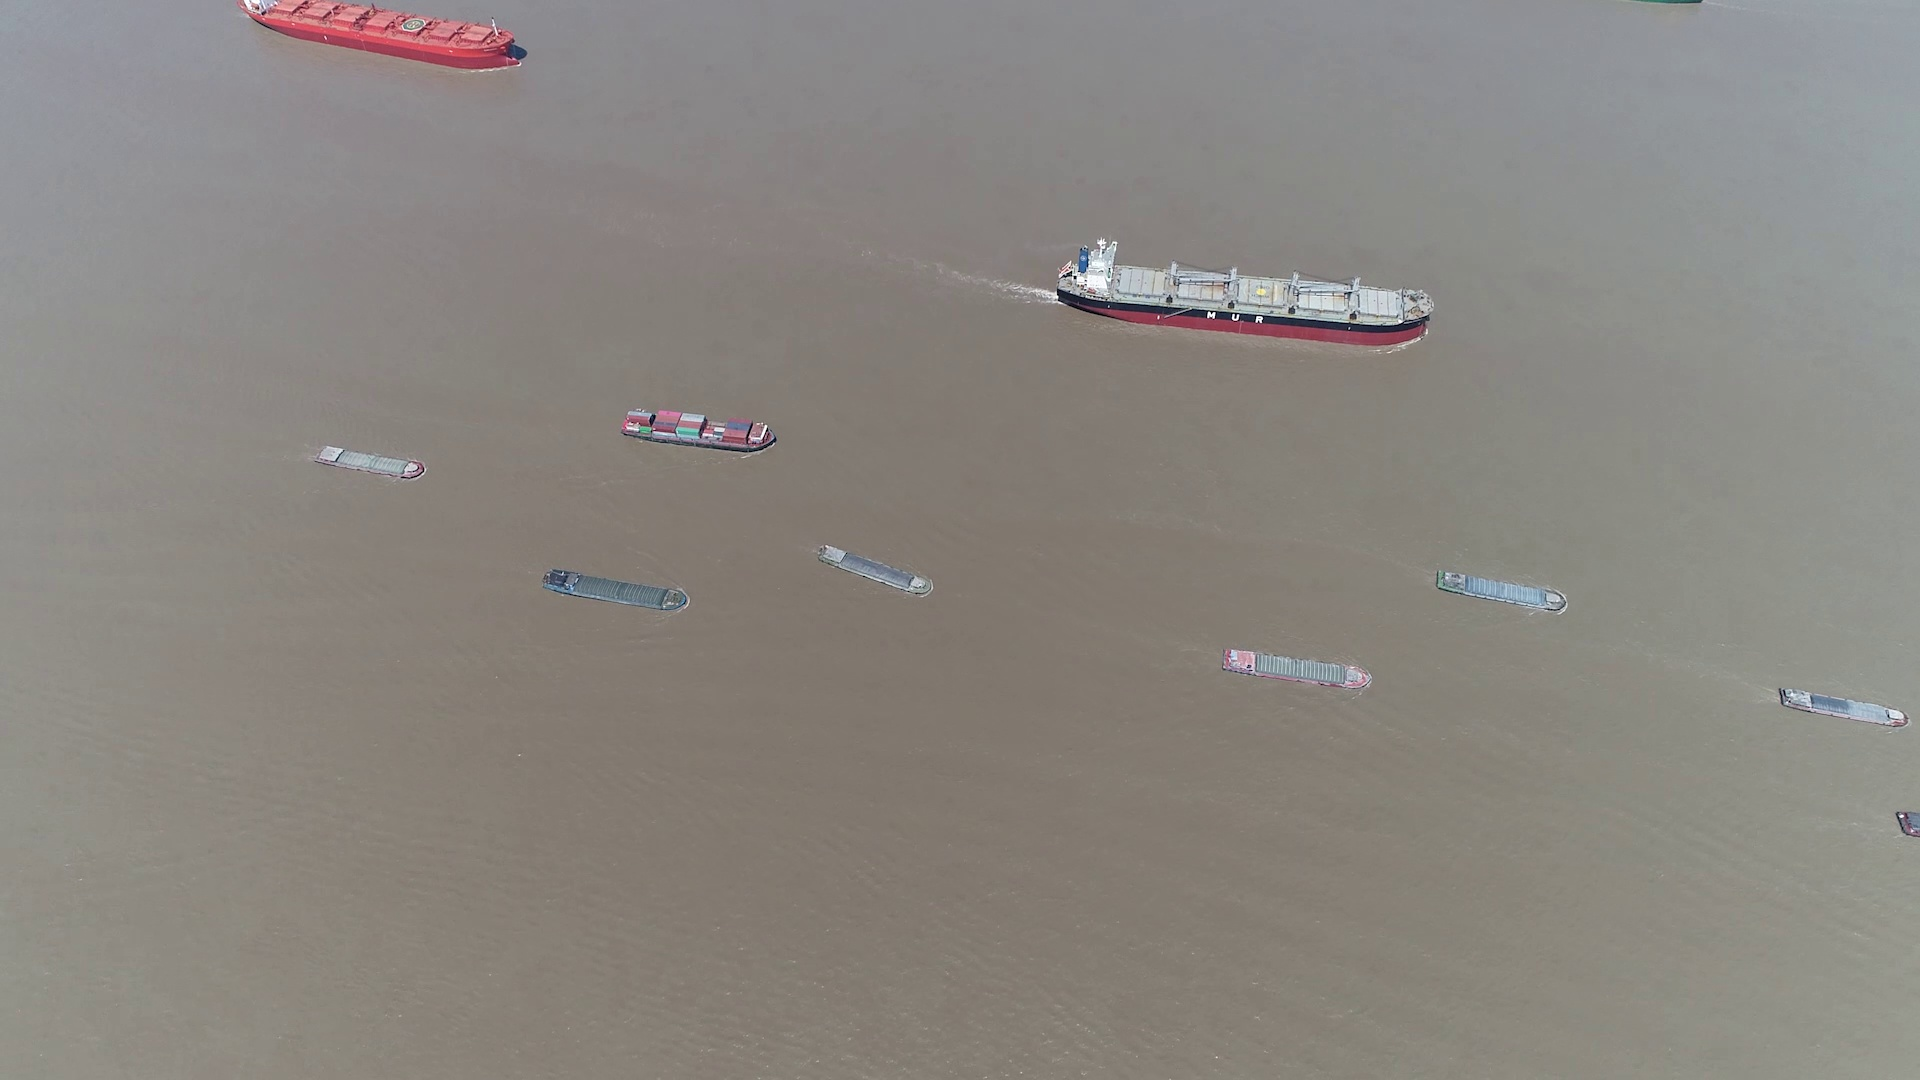ship: (1059, 243, 1437, 344), (243, 0, 524, 69), (621, 407, 781, 452), (1220, 647, 1371, 688), (541, 568, 687, 611), (1437, 568, 1567, 613), (1774, 686, 1909, 728), (822, 547, 934, 597), (314, 444, 427, 480), (1896, 812, 1920, 843), (1640, 0, 1702, 7)
